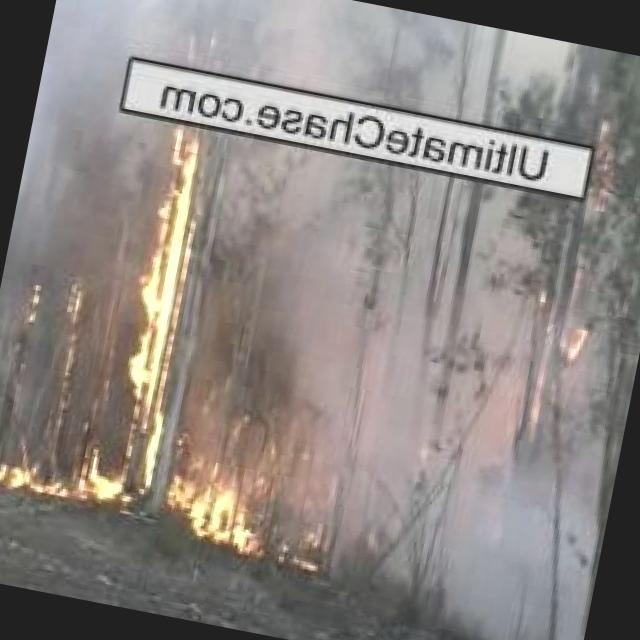Fire: (113, 90, 220, 460), (0, 420, 276, 551), (555, 101, 638, 253), (42, 271, 96, 404), (557, 305, 601, 370)
